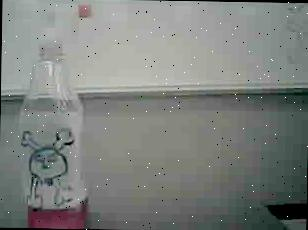hazard: (12, 0, 100, 229)
